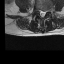CCS_normal: (41, 7, 43, 19)
LFS_stenosis: (46, 6, 48, 14)
LLS_normal: (43, 7, 46, 17)
RFS_normal: (36, 6, 39, 15)
RLS_normal: (39, 7, 41, 17)
